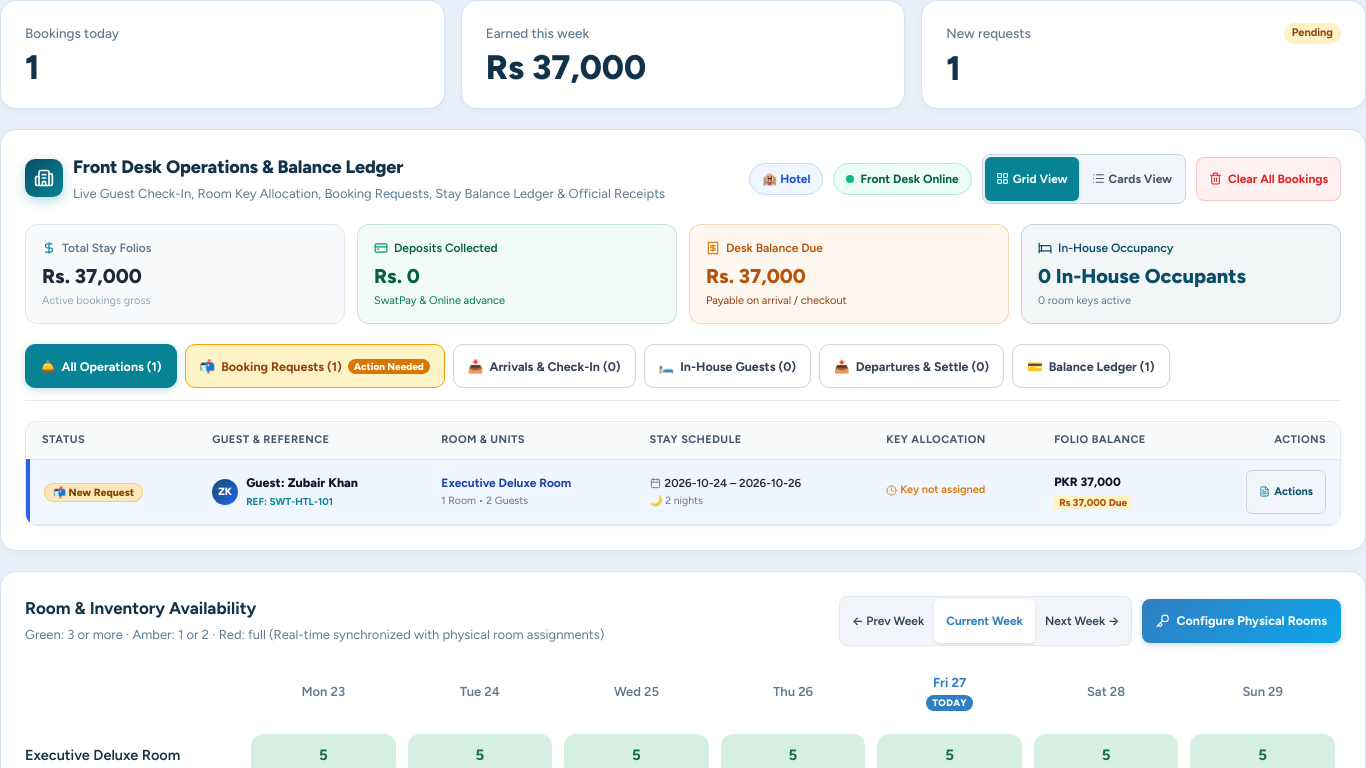
it: Today Screen Clear All Bookings Button › immediately purges bookings and clears room rack when clicking Clear All Bookings button
Click the button with test id "btn-clear-hotel-bookings": (1269, 178) x1=1196 y1=156 x2=1341 y2=200
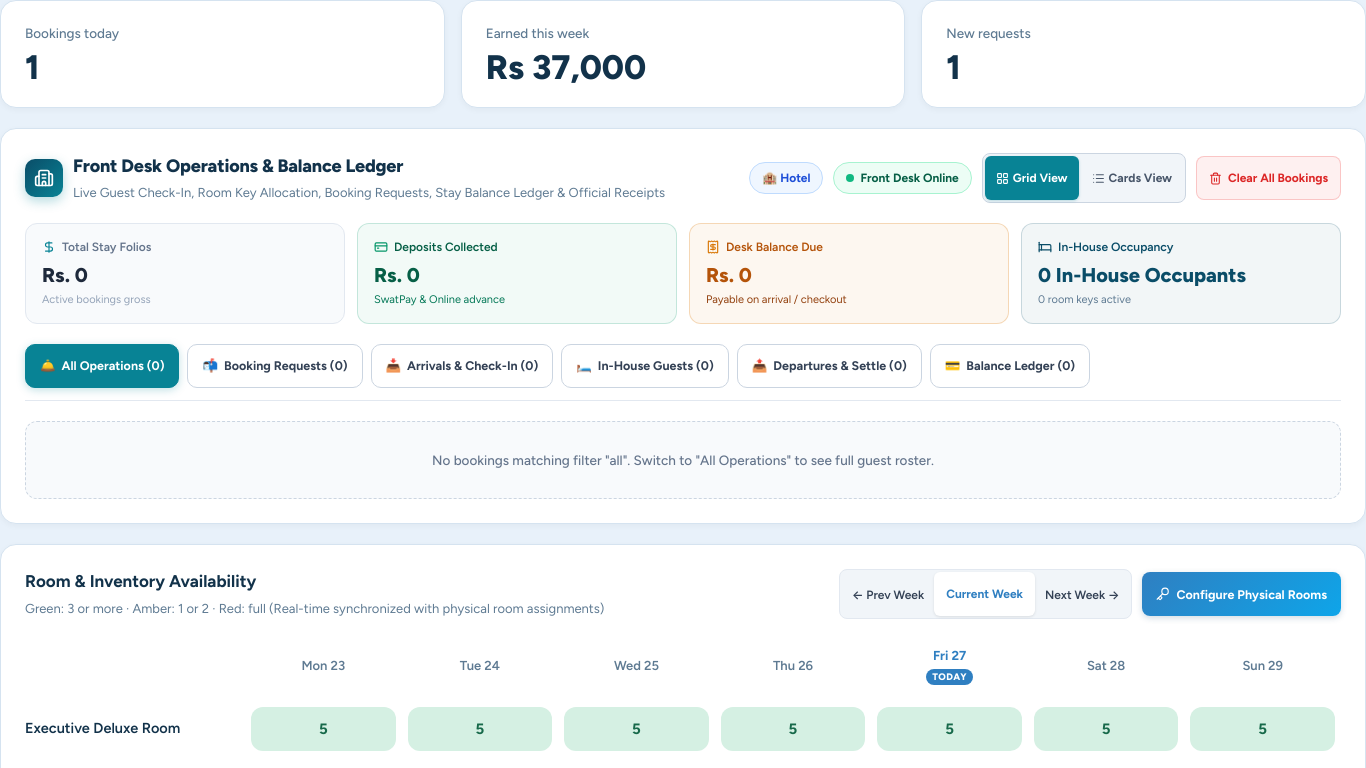
expect the text "SWT-HTL-101" is gone: met
